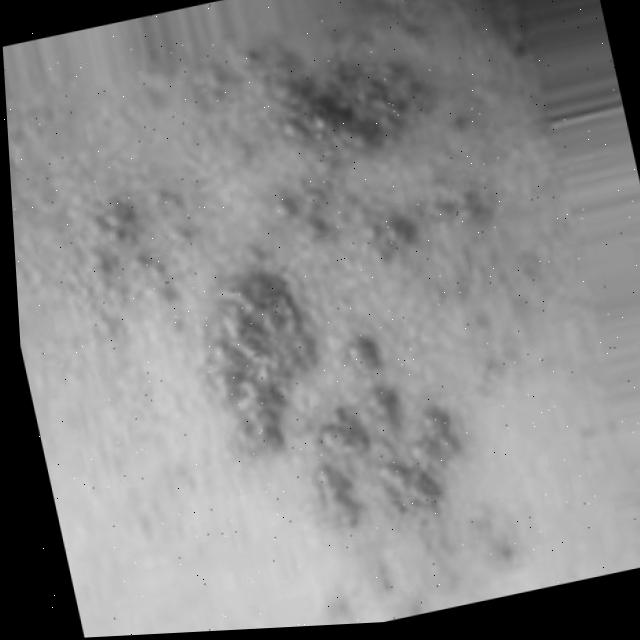Shingles: (80, 136, 480, 570), (223, 0, 493, 280)
